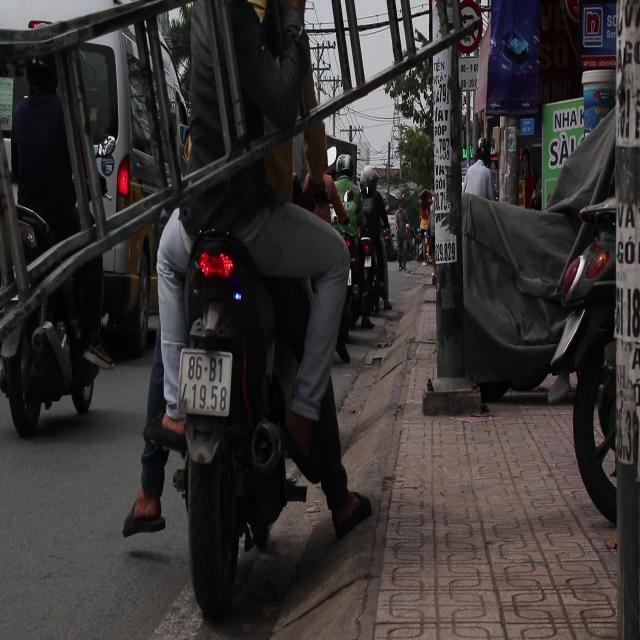motorbike: (162, 230, 297, 640), (0, 171, 111, 449), (355, 200, 393, 339)
